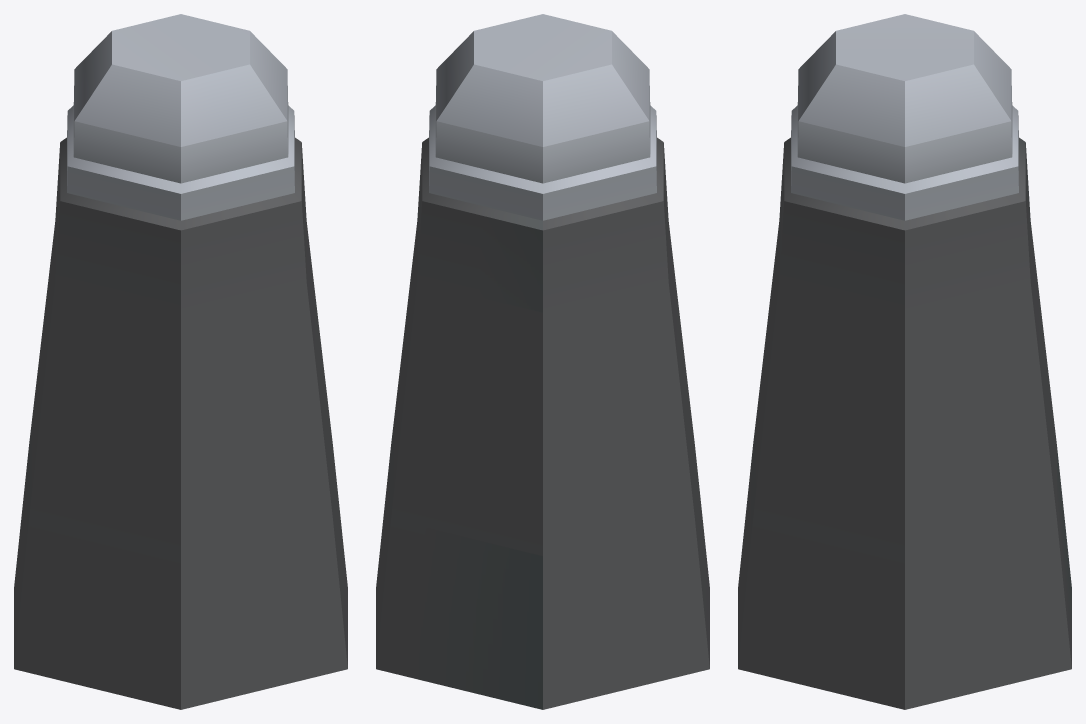
Rendered from Pepper_Mesh.fbx.
The picture shows the model from 3 angles, left to right: view 1: azimuth 30°, elevation 25°; view 2: azimuth 150°, elevation 25°; view 3: azimuth 270°, elevation 25°; orthographic projection.
Visible parts, largest first — view 1: Pepper_Mesh; view 2: Pepper_Mesh; view 3: Pepper_Mesh.
Boxes of the visible parts, bbox=[...] form: Pepper_Mesh: bbox=[14, 14, 347, 709]; Pepper_Mesh: bbox=[376, 14, 709, 709]; Pepper_Mesh: bbox=[738, 14, 1071, 709].
Bounding box in the file's own units: 8.35 × 13.88 × 7.23.
1 material, 1 textured.
